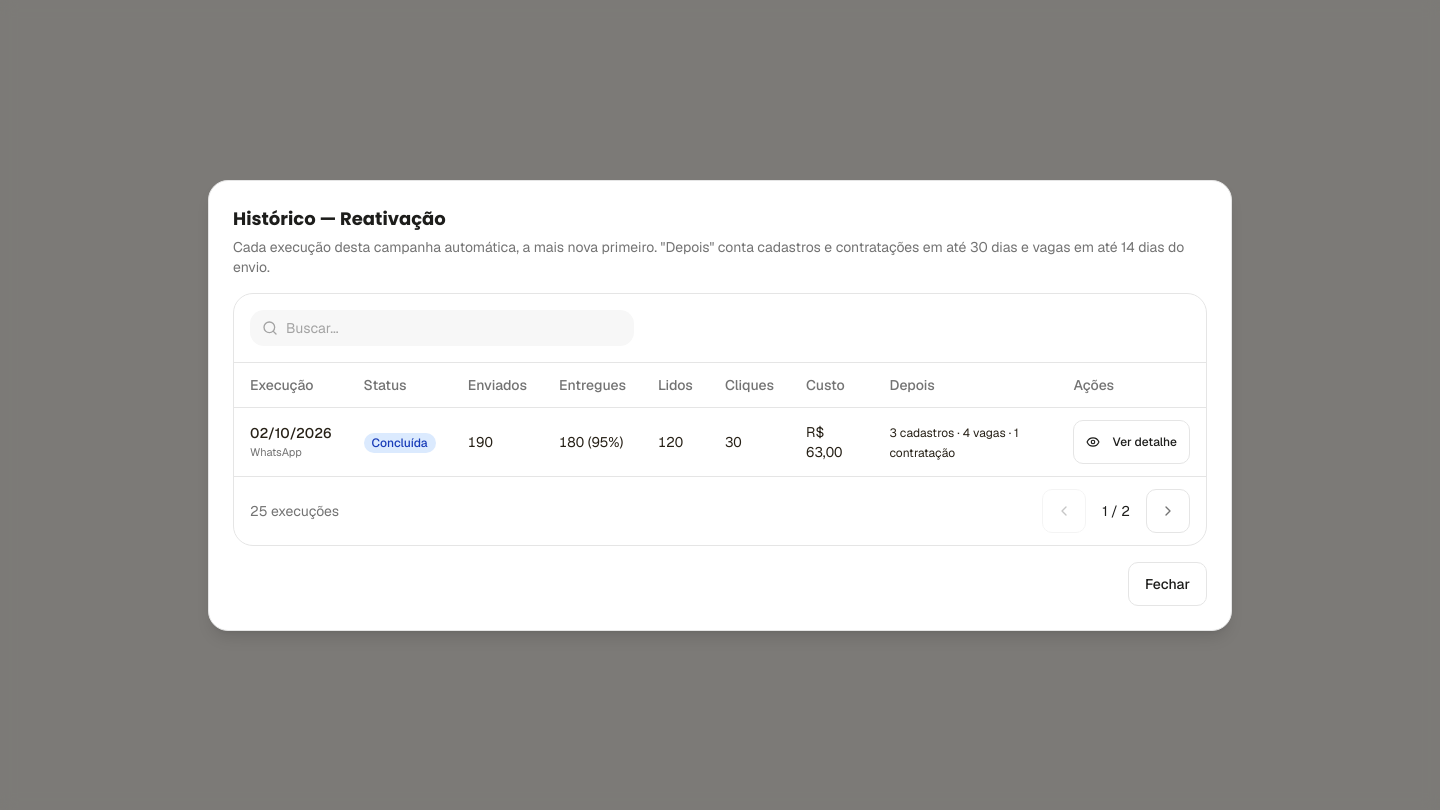
Test: AutomaticRunsDialog (spec 2026-10-01 parte 2 §7/§8.5) › anterior desabilitado na página 1 e próxima na última
The width and height of the screenshot is (1440, 810).
Expected: the button named "Página anterior" is disabled, [1042,488,1086,532]
Click the button named "Próxima página" at point(1168, 510), box [1146,488,1190,532]
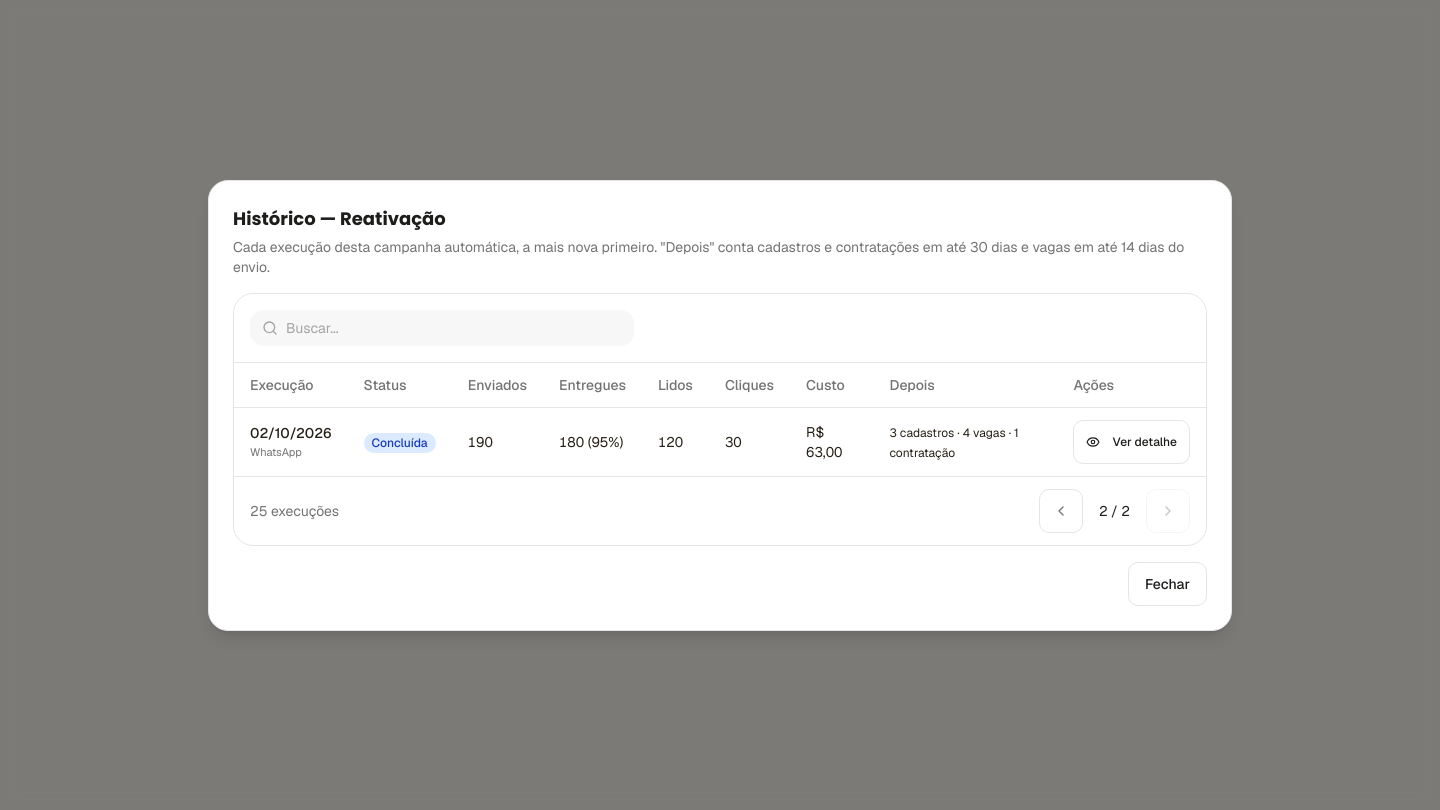
Expected: the text "2 / 2" is shown, [1099,502,1130,520]
Expected: the button named "Página anterior" is enabled, [1039,488,1083,532]
